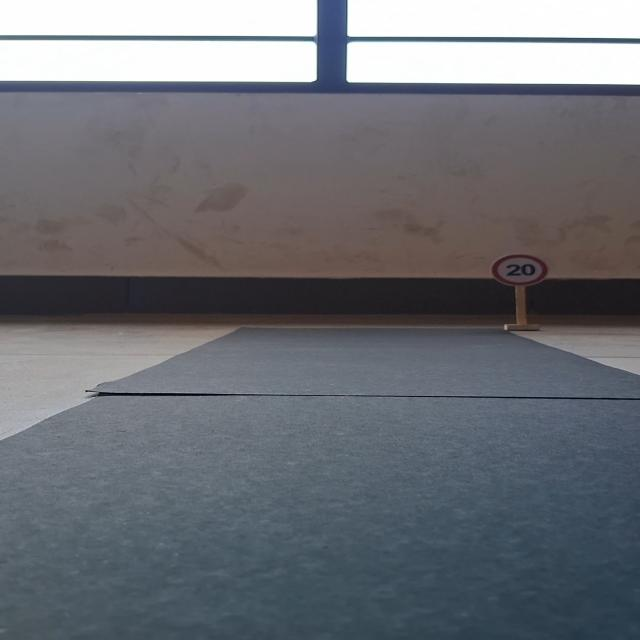Speed20: (487, 250, 553, 290)
